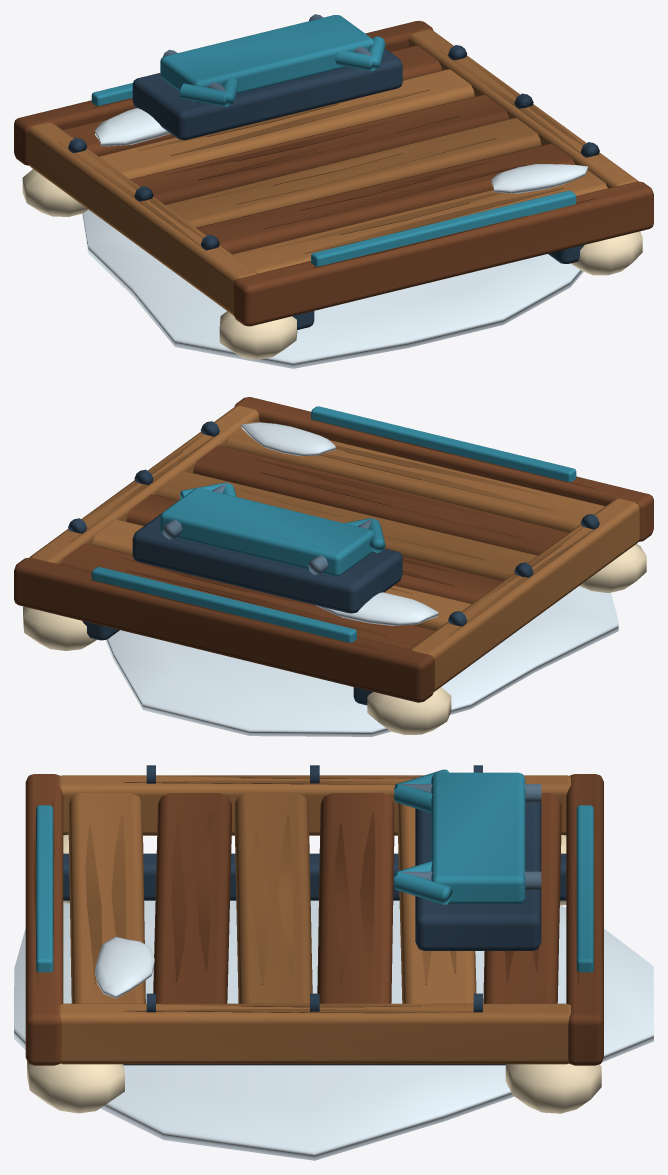
File: pad_input.glb
The picture shows the model from 3 angles, top to bottom: view 1: azimuth 30°, elevation 25°; view 2: azimuth 150°, elevation 25°; view 3: azimuth 270°, elevation 25°; orthographic projection. The views are drawn at different scales.
Parts seen in each view (by area): view 1: pad_input; view 2: pad_input; view 3: pad_input.
Part boxes in pixels (x1,y1,x2,y2): pad_input: (14,14,653,368); pad_input: (14,397,653,736); pad_input: (14,765,653,1160).
Bounding box in the file's own units: 2.14 × 0.725 × 2.04.
